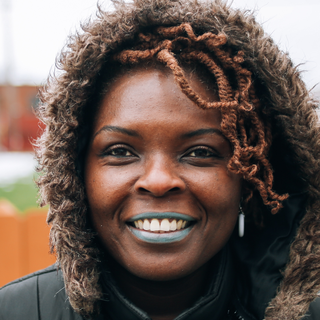eye: (99, 139, 143, 168), (174, 142, 222, 166)
